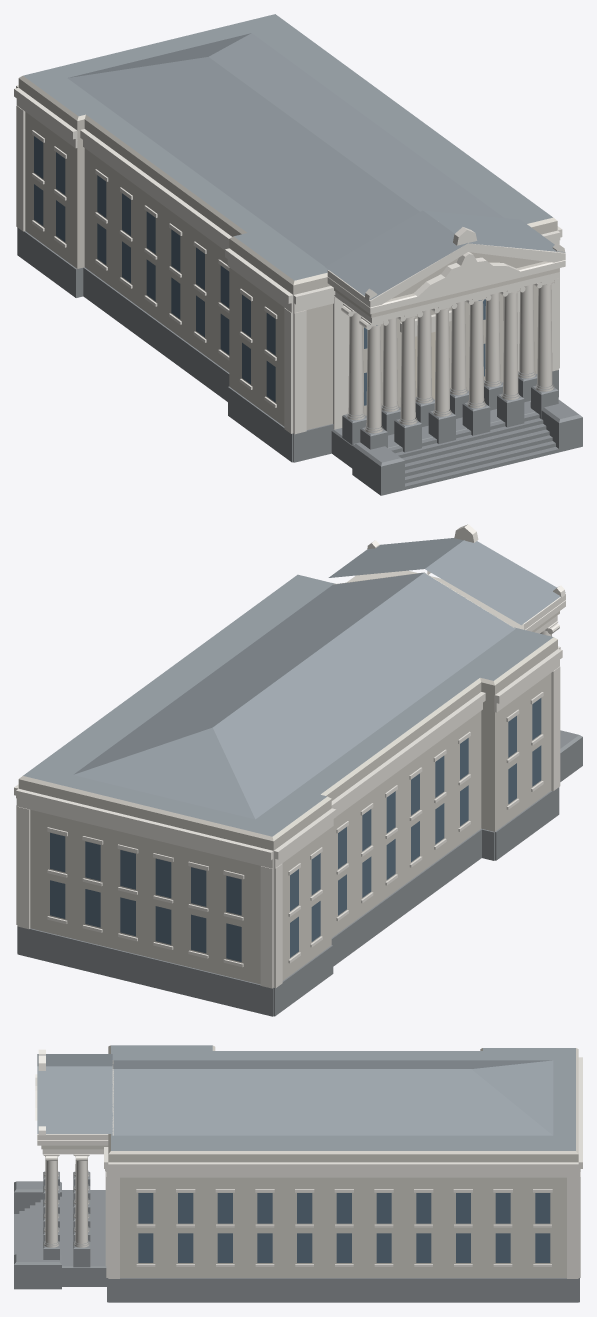
File: nola-gallier-hall.glb
The picture shows the model from 3 angles, top to bottom: view 1: azimuth 30°, elevation 25°; view 2: azimuth 150°, elevation 25°; view 3: azimuth 270°, elevation 25°; orthographic projection. The views are drawn at different scales.
Visible parts, largest first — view 1: Gallier Hall; view 2: Gallier Hall; view 3: Gallier Hall.
Part boxes in pixels (x1,y1,x2,y2): Gallier Hall: [14, 14, 582, 495]; Gallier Hall: [14, 524, 582, 1016]; Gallier Hall: [14, 1045, 582, 1302].
Bounding box in the file's own units: 29.8 × 24 × 64.2.
